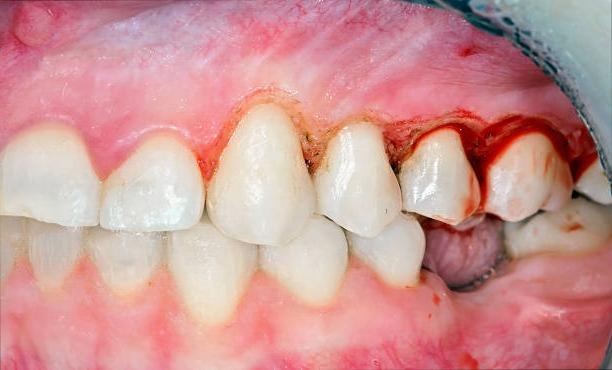Gingivitis: (455, 107, 502, 167), (509, 110, 577, 139)
